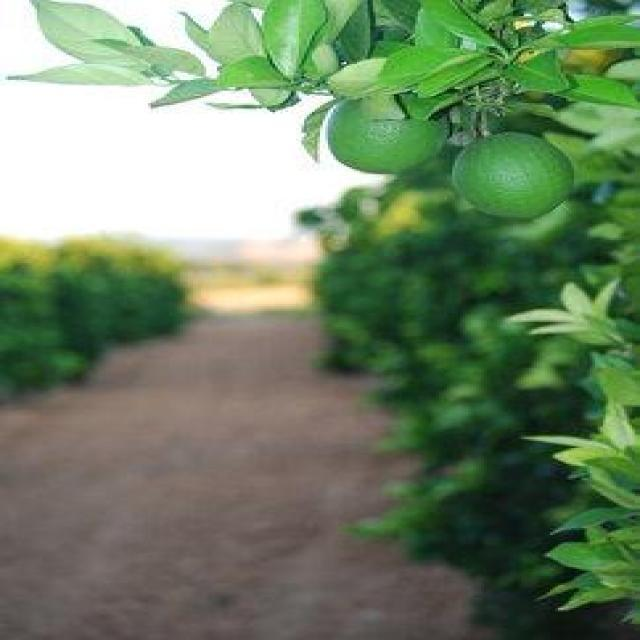Jeruk Belum Matang: (450, 132, 580, 220), (333, 94, 452, 172)
